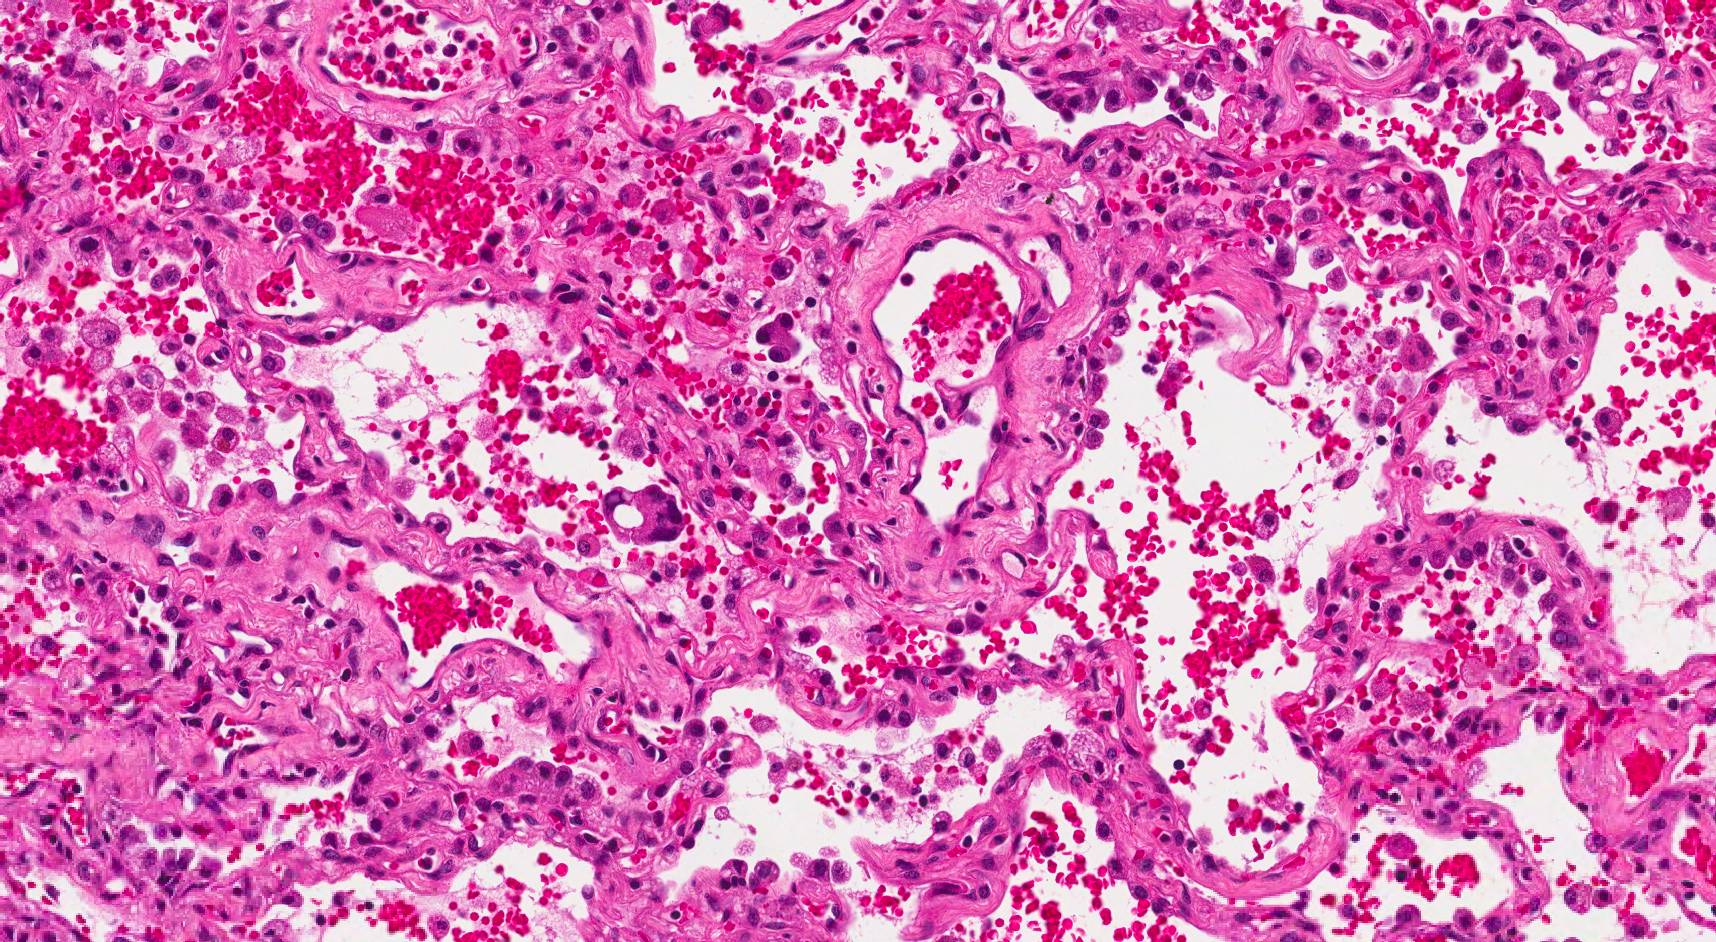stas: (601, 479, 688, 552), (750, 310, 809, 367)
